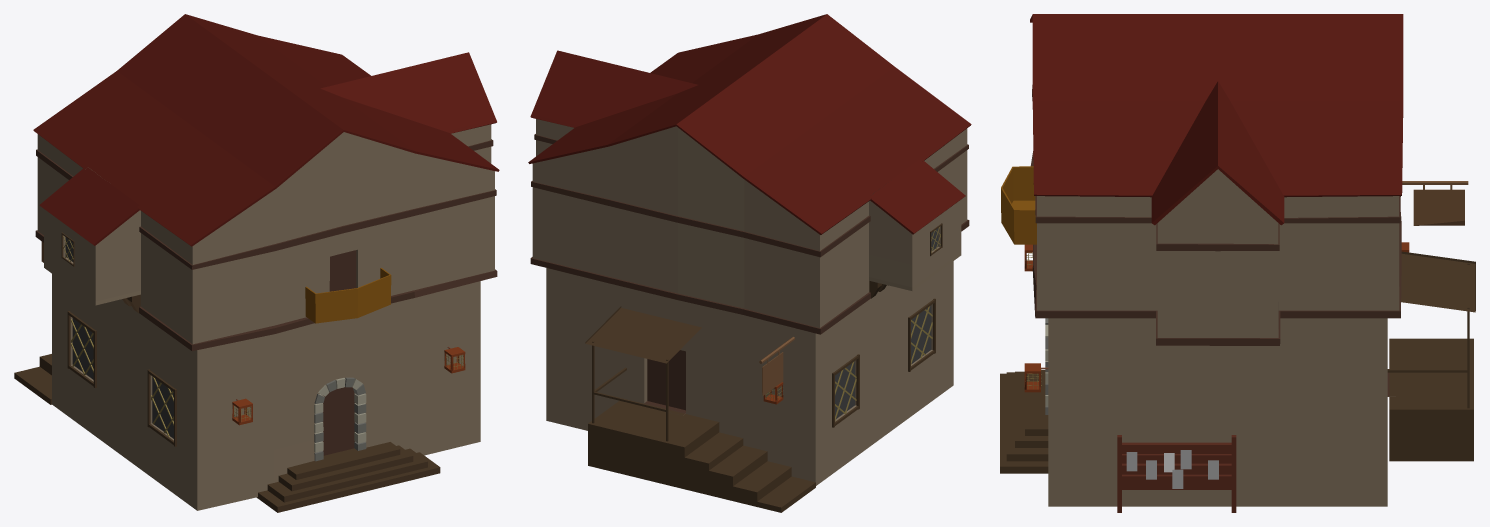
The picture shows the model from 3 angles, left to right: view 1: azimuth 30°, elevation 25°; view 2: azimuth 150°, elevation 25°; view 3: azimuth 270°, elevation 25°; orthographic projection. The views are drawn at different scales.
Visible parts, largest first — view 1: Cube, Cube.012, Cube.007, Cube.040, Cube.008, Cube.010, Cube.009, Cube.002; view 2: Cube, Cube.001, Plane, Cube.005, Cube.004, Cube.003, Cube.002, Cube.006, Cube.011; view 3: Cube, Cube.001, Cube.042, Plane, Cube.012, Cube.011, Cube.008, Cube.007, Cube.010, Cube.009, Cube.006.
Part boxes in pixels (x1=…): Cube: x1=33, y1=14, x2=499, y2=510; Cube.012: x1=305, y1=268, x2=391, y2=323; Cube.007: x1=256, y1=452, x2=440, y2=512; Cube.040: x1=314, y1=377, x2=366, y2=461; Cube.008: x1=267, y1=448, x2=427, y2=502; Cube.010: x1=287, y1=442, x2=400, y2=479; Cube.009: x1=278, y1=445, x2=413, y2=491; Cube.002: x1=14, y1=366, x2=51, y2=404; Cube: x1=528, y1=14, x2=971, y2=485; Cube.001: x1=588, y1=400, x2=719, y2=489; Plane: x1=585, y1=306, x2=701, y2=363; Cube.005: x1=684, y1=432, x2=743, y2=495; Cube.004: x1=709, y1=445, x2=767, y2=500; Cube.003: x1=733, y1=461, x2=791, y2=506; Cube.002: x1=757, y1=476, x2=815, y2=512; Cube.006: x1=592, y1=341, x2=668, y2=441; Cube.011: x1=762, y1=352, x2=783, y2=395; Cube: x1=1030, y1=14, x2=1403, y2=506; Cube.001: x1=1389, y1=351, x2=1473, y2=461; Cube.042: x1=1117, y1=435, x2=1236, y2=512; Plane: x1=1401, y1=251, x2=1475, y2=312; Cube.012: x1=1001, y1=166, x2=1036, y2=244; Cube.011: x1=1413, y1=189, x2=1464, y2=225; Cube.008: x1=1006, y1=372, x2=1048, y2=461; Cube.007: x1=1000, y1=373, x2=1048, y2=473; Cube.010: x1=1025, y1=370, x2=1048, y2=435; Cube.009: x1=1015, y1=371, x2=1048, y2=447; Cube.006: x1=1387, y1=263, x2=1469, y2=408.
Size of the model in its own units: 1.48 by 1.24 by 1.29.
